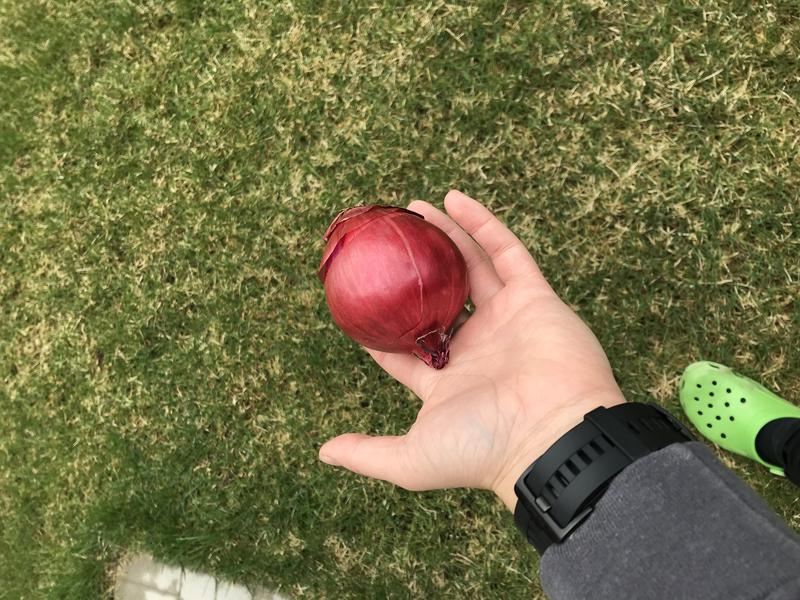purple_onion: (316, 191, 480, 384)
